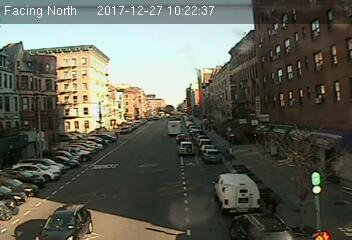car: (28, 196, 90, 240), (227, 210, 291, 240), (201, 147, 222, 163), (178, 141, 196, 156), (176, 132, 188, 142)
truck: (211, 171, 259, 212)
